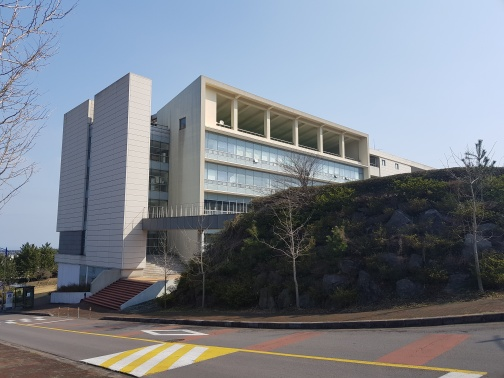Engineering College Building 4: (42, 76, 447, 313), (57, 101, 194, 280), (81, 87, 255, 215), (63, 118, 368, 187)
